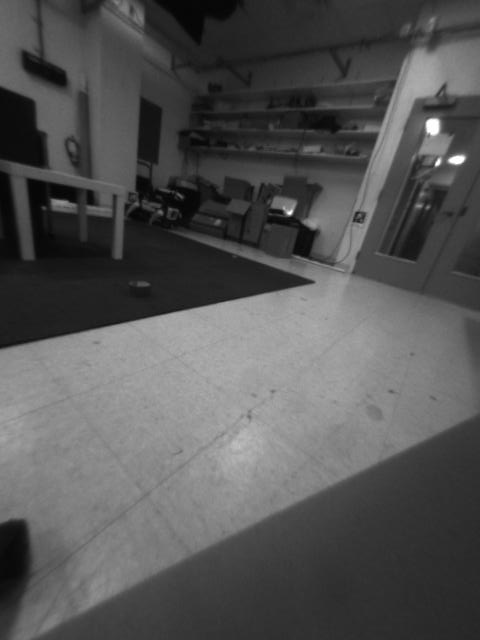dogtoy: (120, 269, 163, 299)
